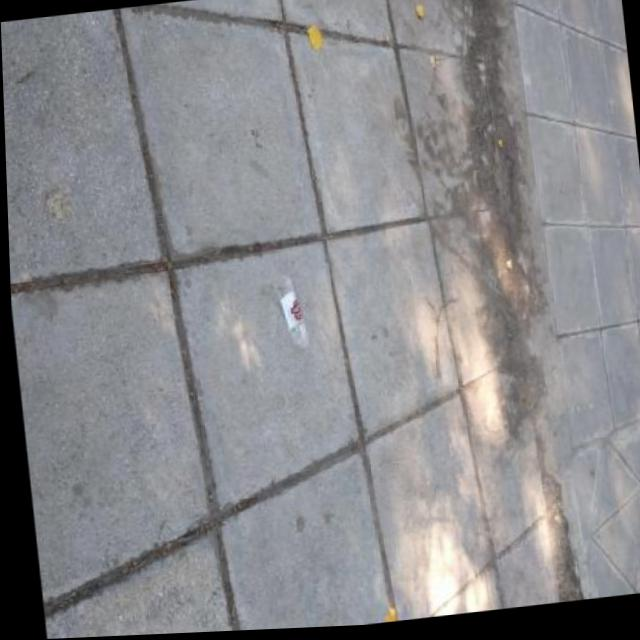plastic: (269, 271, 307, 352)
